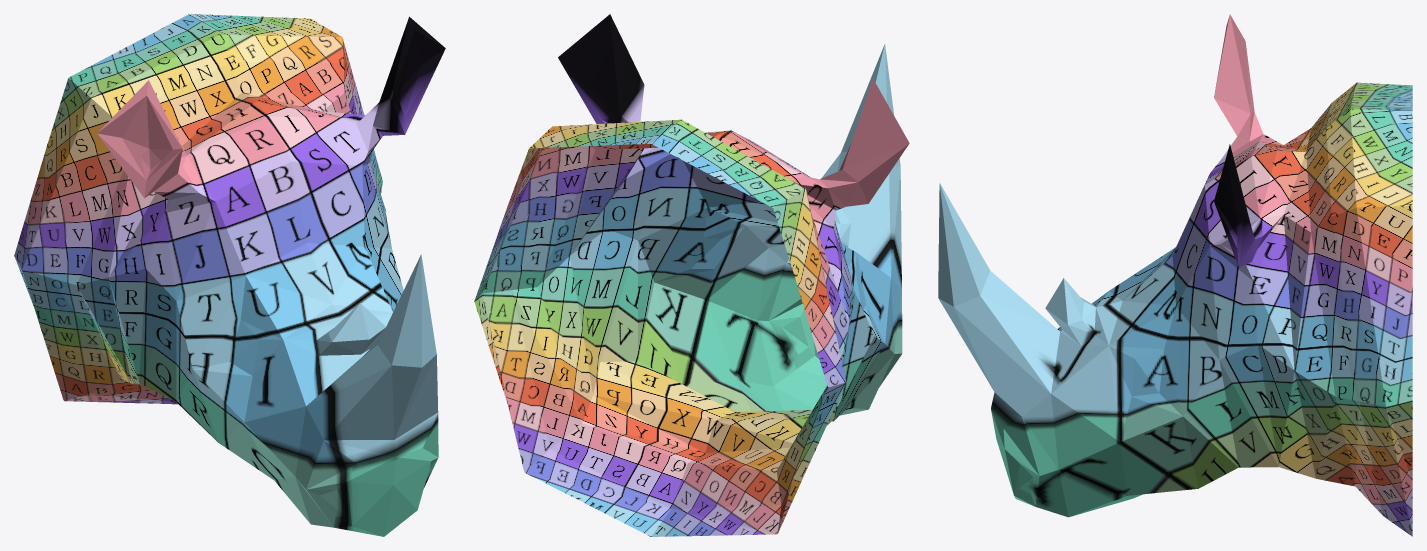
File: rhino_low_poly_bff_in_scaled.obj
3 views of the same model, side by side, from view 1: azimuth 30°, elevation 25°; view 2: azimuth 150°, elevation 25°; view 3: azimuth 270°, elevation 25° (orthographic). The views are drawn at different scales.
Bounding box in the file's own units: 5.09 × 5.68 × 5.69.
Materials: 1 (1 with a texture image).
